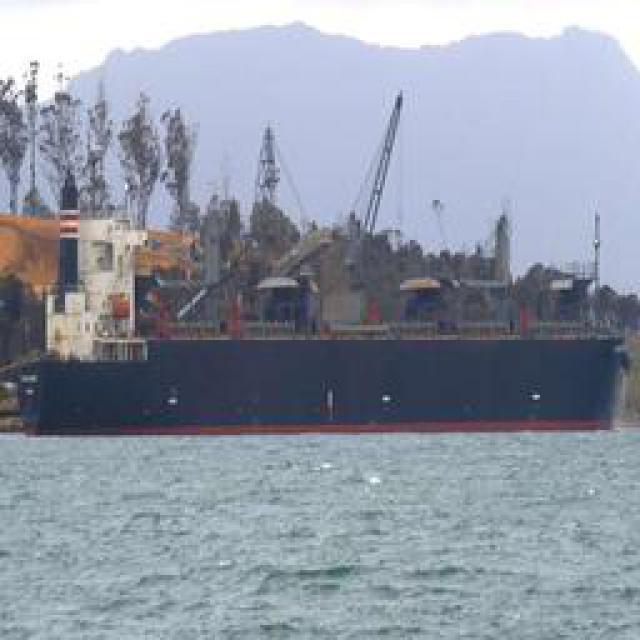Ship: (15, 80, 628, 438)
